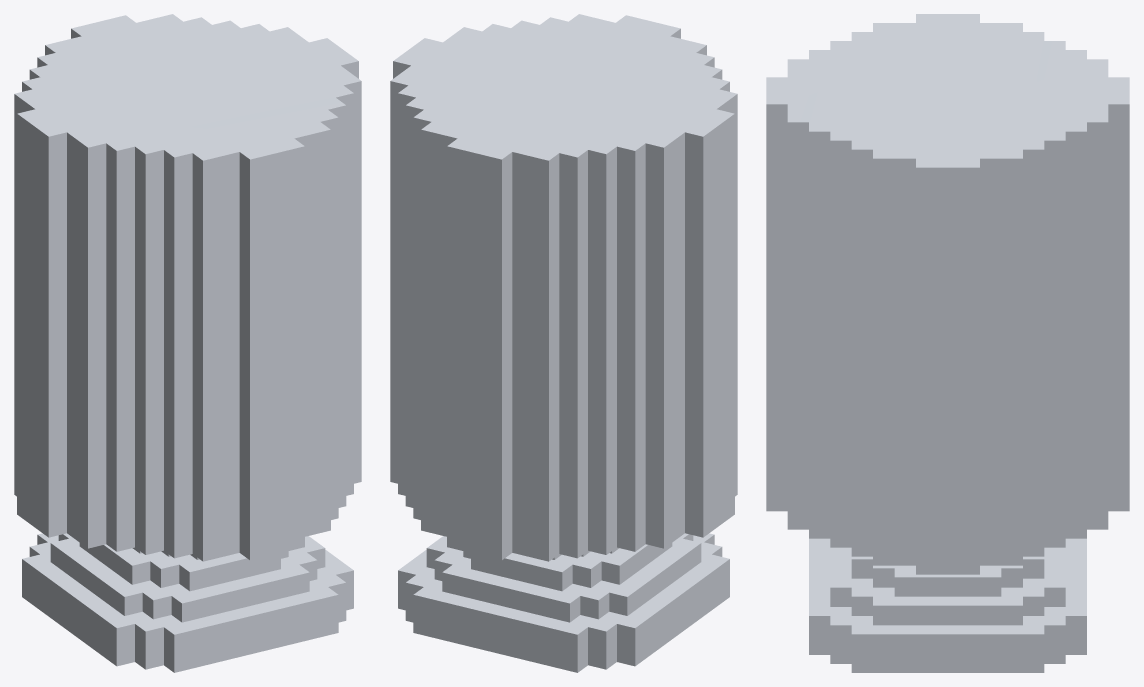
The model's file is Lake_IV_second_stage_rocket.glb.
3 renders of one model, left to right at view 1: azimuth 30°, elevation 25°; view 2: azimuth 150°, elevation 25°; view 3: azimuth 270°, elevation 25°, orthographic.
Visible parts, largest first — view 1: ObjObject.018; view 2: ObjObject.018; view 3: ObjObject.018.
Part boxes in pixels (left/top/right/bottom): ObjObject.018: left=14, top=14, right=361, bottom=672; ObjObject.018: left=390, top=14, right=737, bottom=672; ObjObject.018: left=766, top=14, right=1129, bottom=672.
Size of the model in its own units: 1.7 by 2.7 by 1.7.
Materials: 1 (1 with a texture image).
